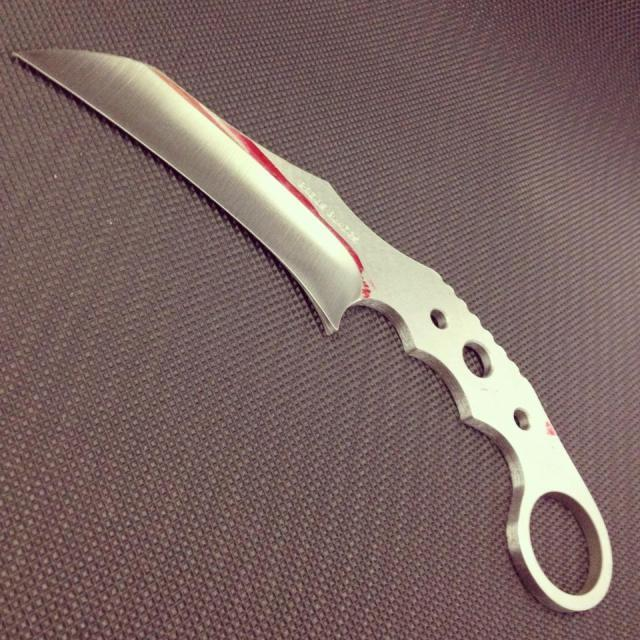Pisau: (7, 27, 629, 630)
